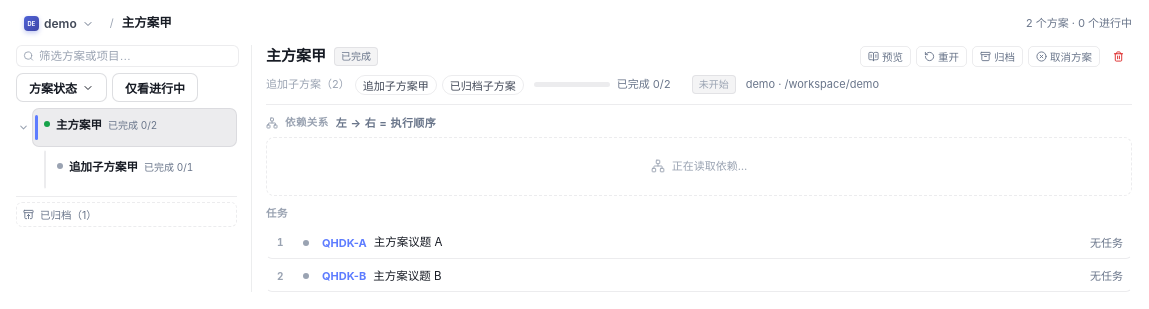
Test: PlanBoard — 追加子方案：缩进树与子树筛选 › 归档区的子方案保持平铺，但照样标出所属主方案（归属口径全看板统一）
Click the button "已归档（1）": (126,214) [16,202,237,227]
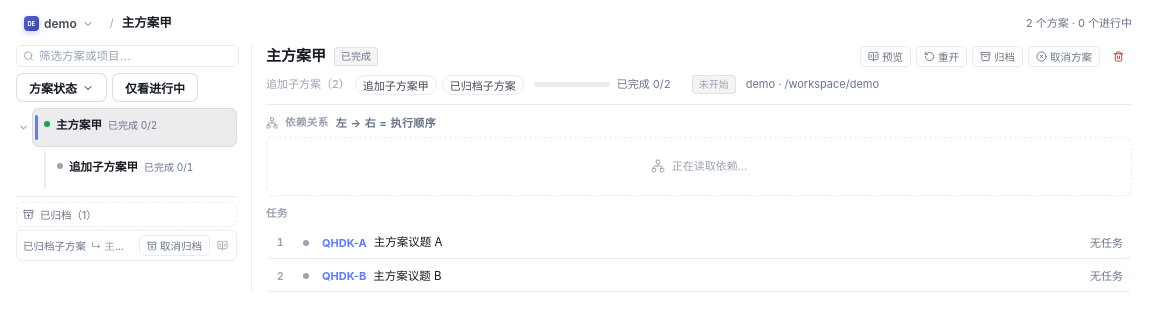
Result: the text "↳ 主方案甲" is shown at [91,240,134,253]
